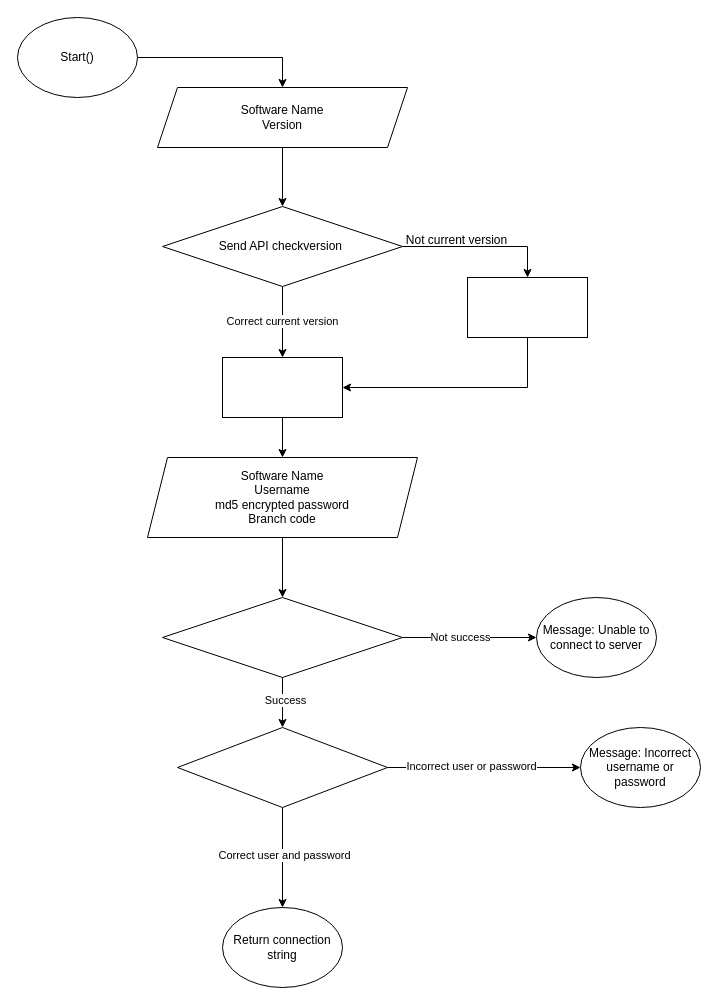
Image size: 718x1005. Some labels were removed from this diagram. Each missing label, with the centre of its shape:
Check username and password: point 282,767
Login Screen: point 282,387
Send API get connection string: point 282,637
Upgrade software: point 527,307
